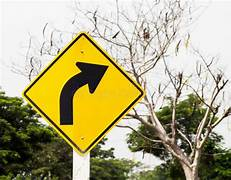right: (23, 31, 146, 153)
